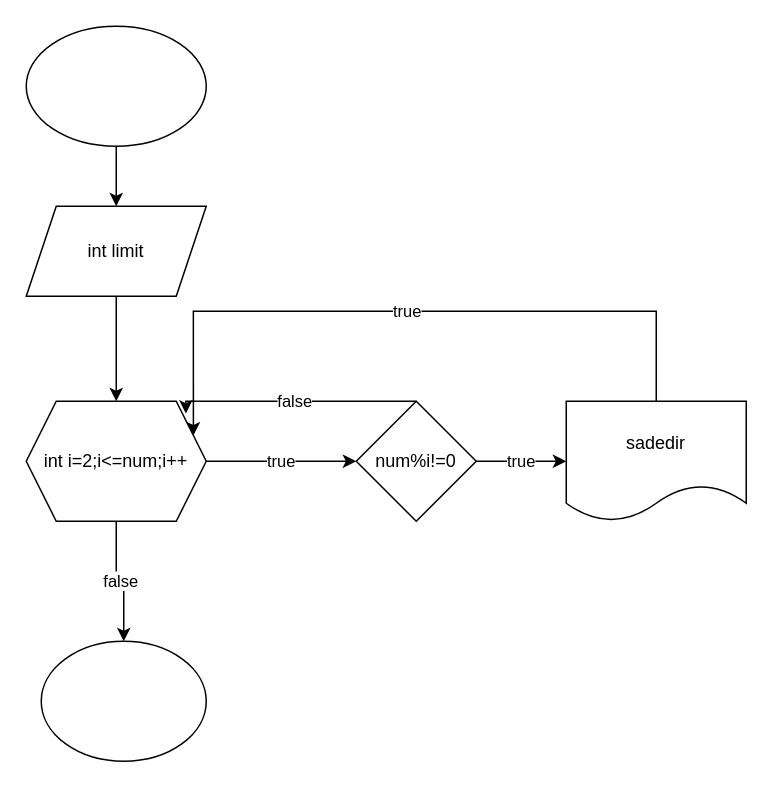
This 773x788 diagram has some shape labels left out. Each missing label, with the centre of its shape:
"end" belongs at (123,700).
"start" belongs at (115,85).
